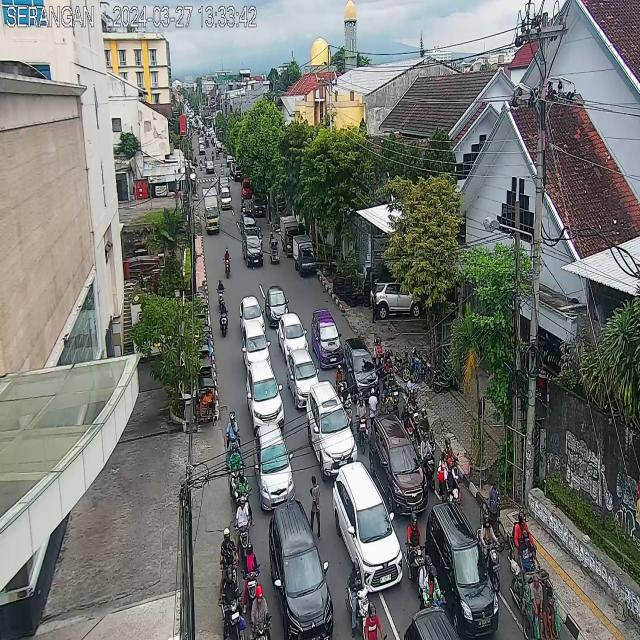car: (426, 502, 499, 638), (332, 459, 403, 588), (269, 499, 333, 640), (370, 416, 428, 516), (306, 381, 358, 480), (253, 421, 295, 513), (246, 359, 284, 433), (343, 336, 380, 402), (287, 349, 320, 408), (311, 309, 343, 368), (241, 319, 272, 371), (278, 312, 309, 362), (238, 294, 266, 340), (266, 283, 290, 330), (242, 230, 263, 268), (240, 212, 258, 237), (251, 193, 266, 218), (220, 188, 232, 210), (218, 176, 230, 193), (241, 181, 252, 199)
motorcycle: (344, 558, 371, 636), (476, 514, 502, 594), (508, 510, 537, 576), (219, 564, 244, 640), (417, 556, 446, 614), (404, 513, 426, 588), (438, 450, 460, 514), (235, 495, 254, 567), (224, 409, 246, 471), (233, 467, 254, 531), (242, 542, 260, 614), (219, 526, 239, 588), (416, 408, 436, 467), (417, 432, 436, 494), (251, 584, 271, 640), (440, 433, 460, 488), (226, 444, 244, 501), (361, 601, 386, 640), (404, 386, 420, 435), (339, 381, 354, 433), (356, 392, 368, 454), (386, 367, 400, 419), (372, 337, 386, 378), (400, 405, 413, 446), (334, 363, 348, 398), (381, 381, 394, 418), (382, 348, 395, 383), (219, 300, 229, 338), (223, 248, 232, 280), (217, 276, 225, 309), (257, 226, 264, 249), (240, 196, 247, 214), (247, 199, 252, 214)
truck: (292, 234, 316, 276), (202, 188, 220, 235), (280, 216, 299, 258)
